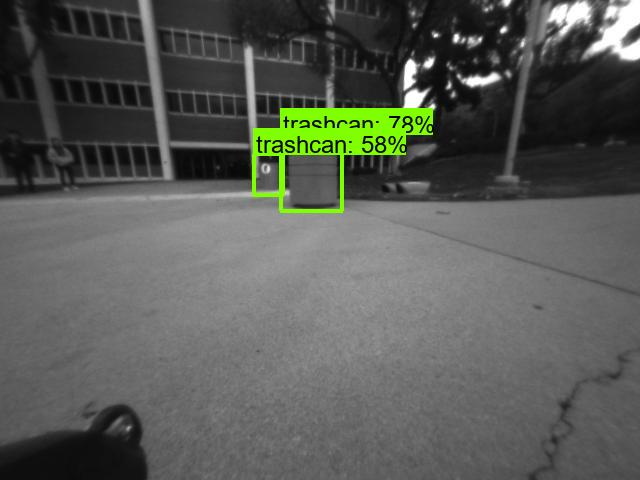trashcan: (286, 138, 343, 209), (260, 155, 282, 191)
